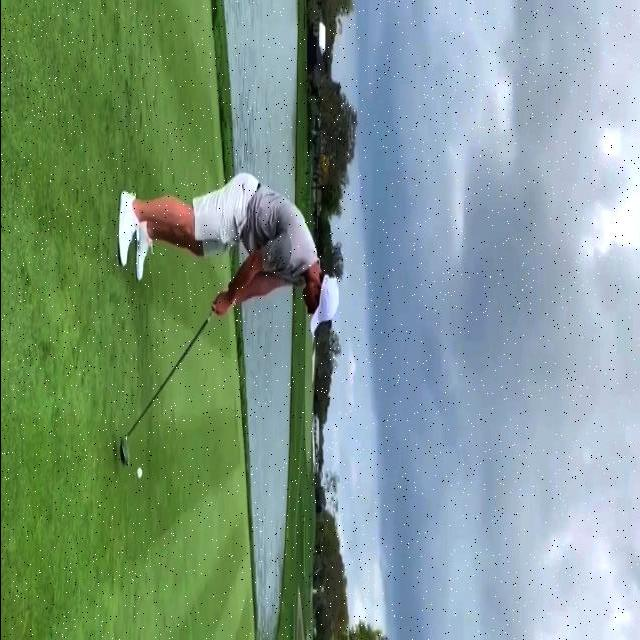ClubHandle: (119, 309, 214, 466)
ClubHead: (119, 438, 129, 466)
GolfBall: (136, 468, 141, 478)
